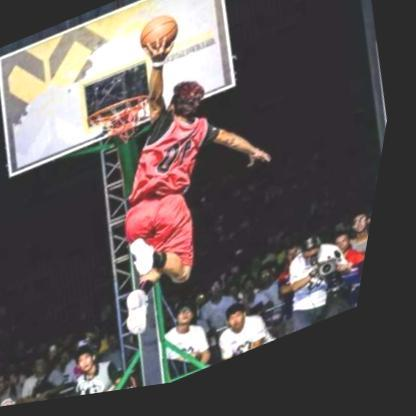basketball: (135, 13, 186, 61)
